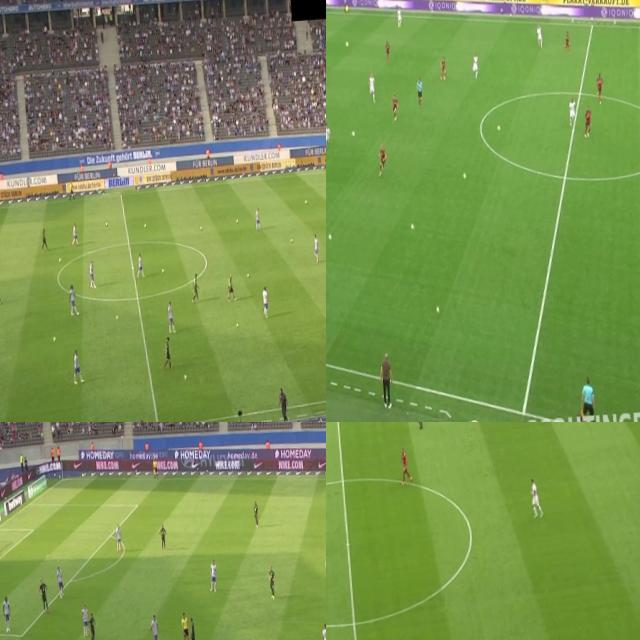ball: (434, 304, 440, 312), (52, 334, 56, 342), (410, 222, 414, 230), (162, 267, 166, 273), (235, 322, 239, 328), (497, 124, 501, 130), (184, 372, 187, 378), (463, 172, 466, 178), (352, 131, 355, 137), (346, 41, 349, 47), (116, 314, 118, 320), (106, 220, 108, 226), (144, 222, 146, 228), (200, 224, 202, 230), (246, 271, 248, 277), (235, 219, 238, 223), (330, 233, 332, 239), (290, 238, 292, 242), (305, 198, 307, 202), (59, 256, 60, 261)
player: (528, 476, 542, 515), (38, 578, 52, 615), (398, 448, 411, 483), (582, 104, 594, 139), (72, 350, 84, 383), (87, 610, 99, 640), (56, 562, 66, 598), (69, 283, 79, 317), (1, 596, 11, 630), (79, 605, 89, 638), (188, 612, 199, 640), (163, 336, 172, 370), (267, 566, 276, 600), (566, 96, 576, 125), (377, 145, 386, 177), (210, 558, 218, 594), (168, 300, 176, 334), (262, 284, 270, 318), (252, 498, 260, 532), (596, 70, 604, 102), (149, 615, 159, 640), (88, 260, 96, 290), (191, 272, 199, 302), (368, 72, 376, 102), (159, 522, 167, 551), (136, 253, 144, 280), (391, 95, 399, 122), (70, 221, 78, 247), (439, 57, 448, 80), (228, 273, 235, 302), (115, 521, 122, 550), (40, 227, 48, 249), (563, 30, 571, 52), (312, 234, 318, 262), (472, 53, 479, 77), (326, 124, 331, 150), (320, 620, 326, 640), (255, 208, 260, 230), (538, 28, 544, 46), (385, 41, 390, 61), (396, 8, 401, 26)
